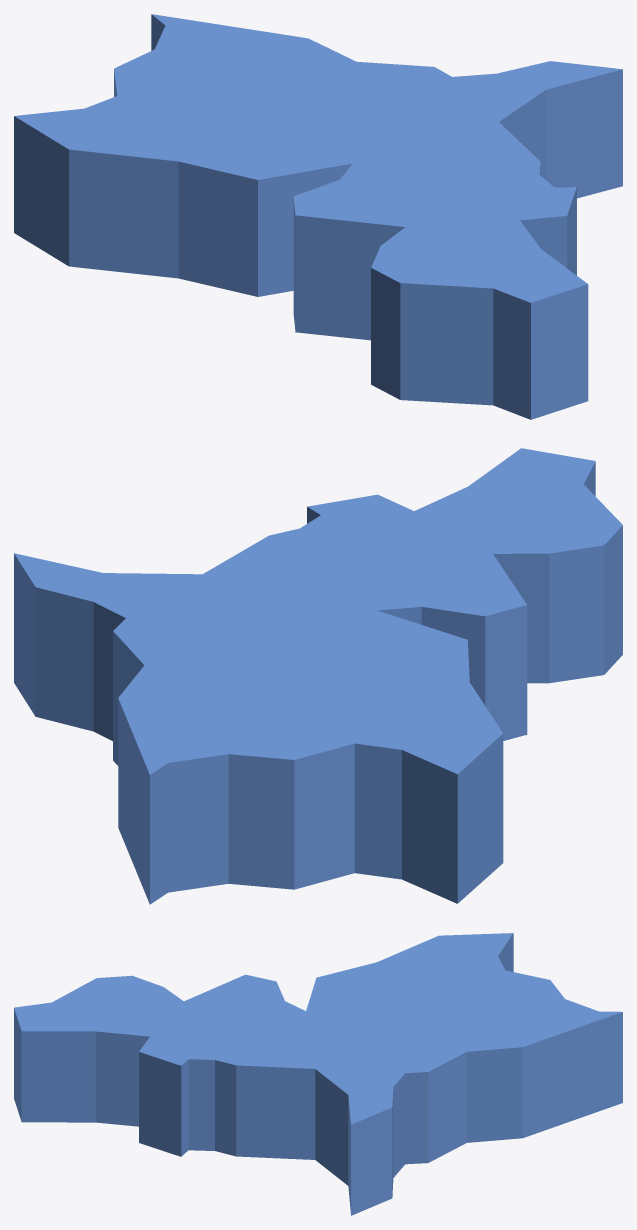
The model's file is Azerbaijan_Baku.fbx.
The picture shows the model from 3 angles, top to bottom: view 1: azimuth 30°, elevation 25°; view 2: azimuth 150°, elevation 25°; view 3: azimuth 270°, elevation 25°; orthographic projection. The views are drawn at different scales.
Visible parts, largest first — view 1: Baku; view 2: Baku; view 3: Baku.
Boxes of the visible parts, x1=… form: Baku: x1=14, y1=14, x2=622, y2=419; Baku: x1=14, y1=448, x2=622, y2=904; Baku: x1=14, y1=933, x2=622, y2=1215.
Bounding box in the file's own units: 5.91 × 1.31 × 7.94.
